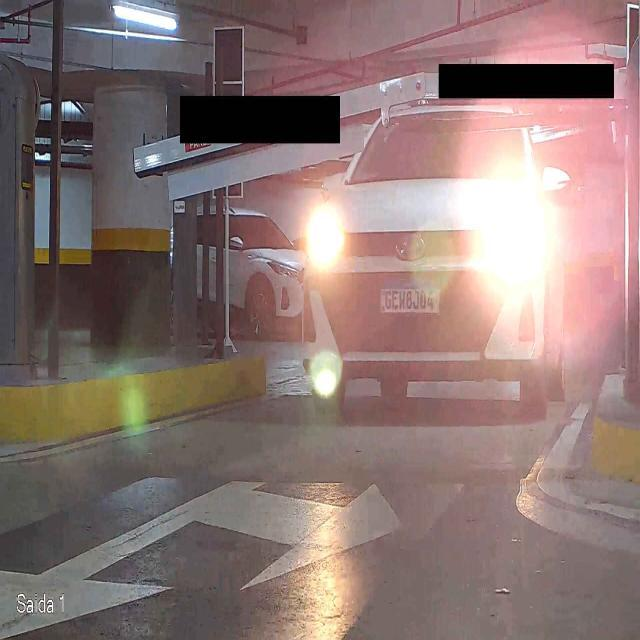mercosul_plate: (378, 283, 442, 315)
